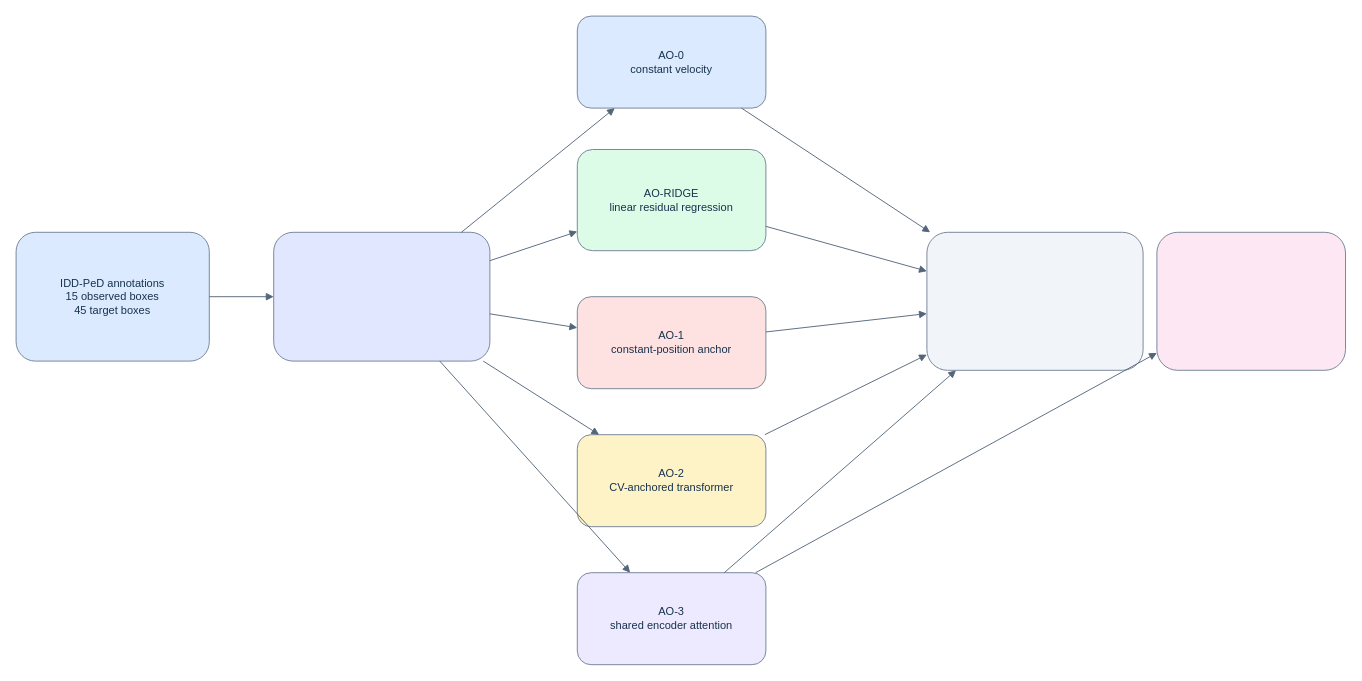
The diagram is 1362 pixels wide and 681 high, and some of its shapes have lost their labels. The shapes that lost their labels are listed below. From the top down, each one's box as (x1, y1, x2, y2) in pixels, then its label:
(273, 231, 490, 361): Frozen splits + train-only normalization GP3/5/8/9 held-out
(926, 231, 1143, 370): Frozen official test MSE + C-MSE + CF-MSE 13 videos / 861 tracks
(1156, 231, 1346, 370): Development-only AO-3 temporal analysis no test explanations
